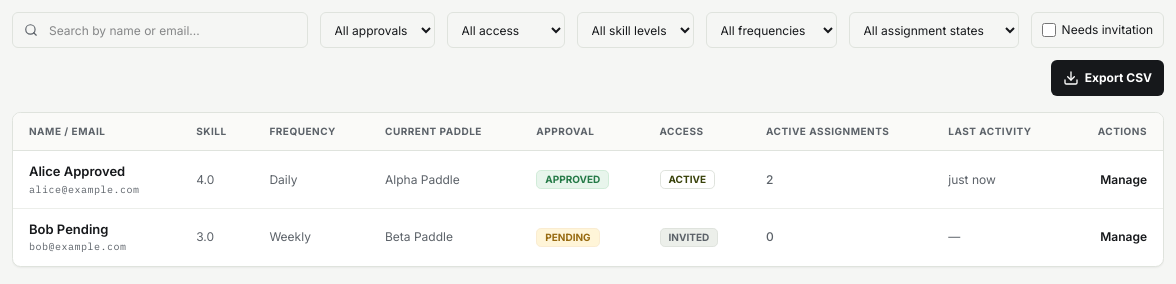
Test: TesterDirectoryTable (Sprint 1 revision, Step 5) › combines search and skill-level filters
Select "4.0" in the 3rd dropdown showing "All skill levels" at (635, 30), box [577, 12, 694, 48]
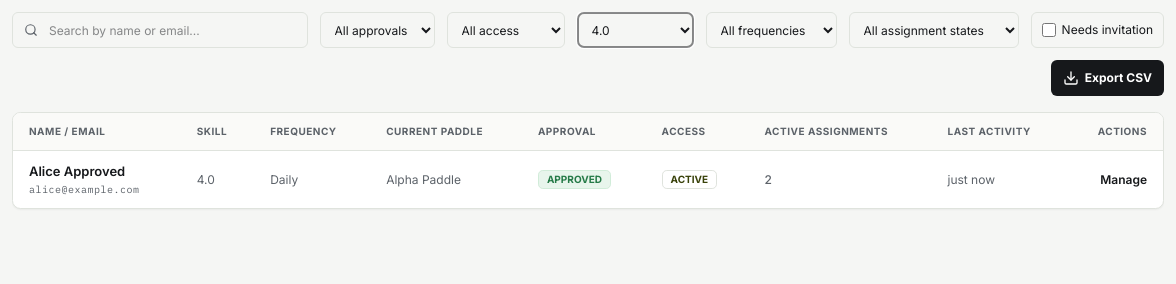
Expected: the text "Alice Approved" is shown, [29, 163, 125, 179]
Now the text "Bob Pending" is gone
